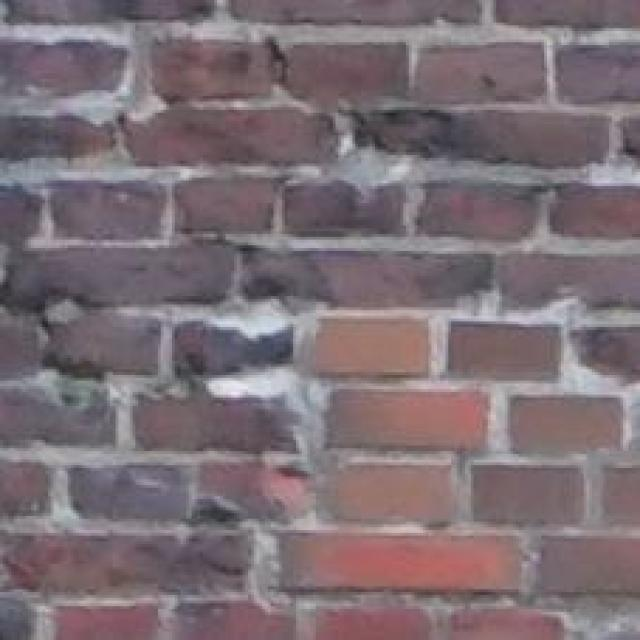Crack: (45, 75, 616, 460)
